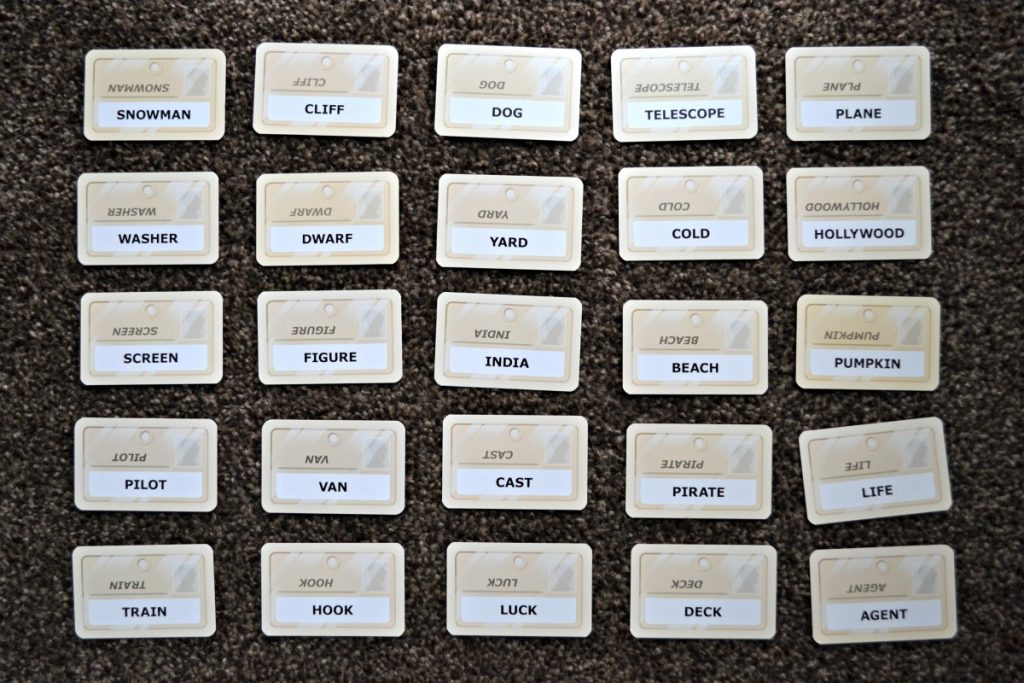A: (857, 606, 871, 627), (139, 603, 150, 622), (689, 361, 701, 378), (519, 354, 529, 372), (698, 485, 708, 501), (171, 106, 180, 123), (498, 233, 507, 250), (505, 474, 514, 491), (325, 231, 335, 246), (328, 479, 336, 497), (853, 107, 862, 121), (132, 232, 140, 247)
